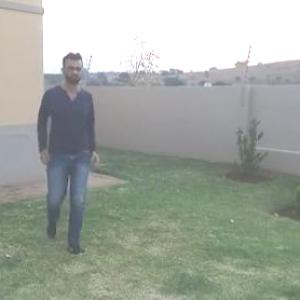follow: (37, 52, 98, 231)
